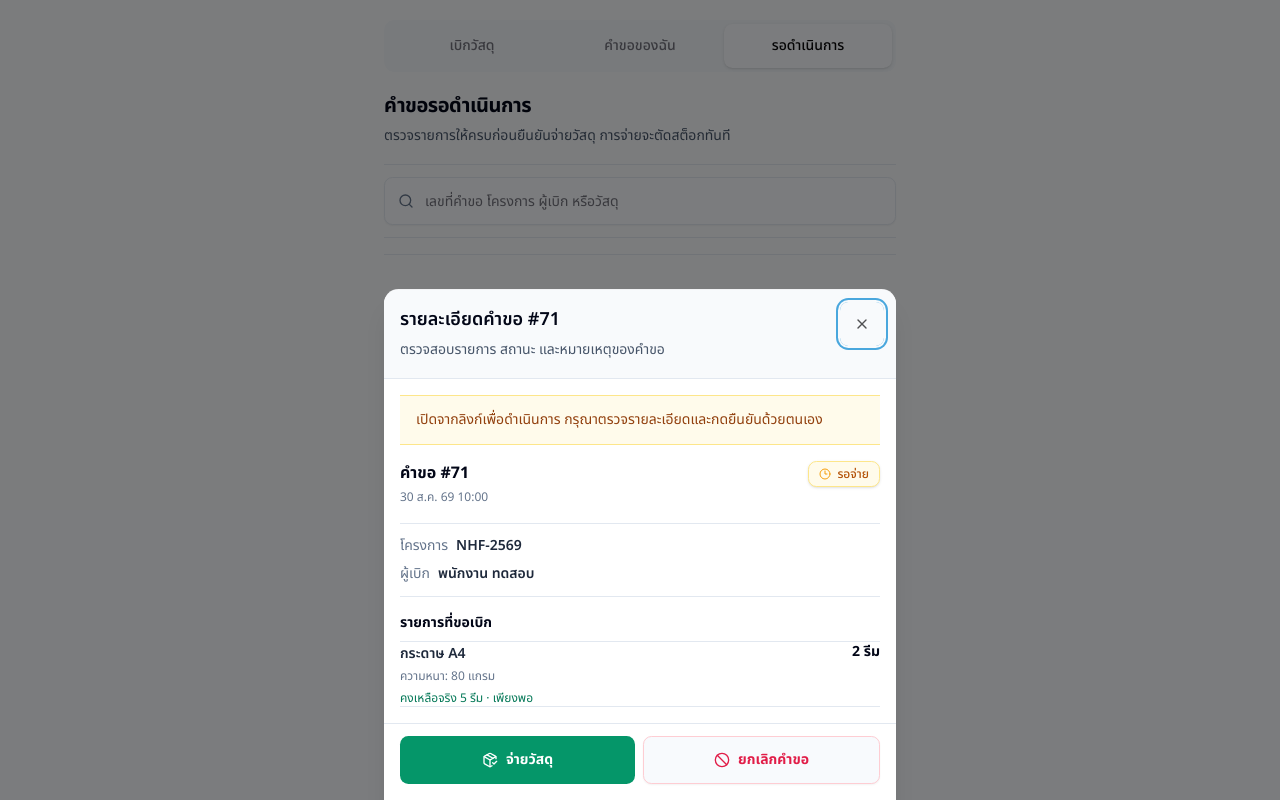
Test: LIFF Stock app orchestration › refreshes processor detail after an issue conflict without retrying
Check: the text "เปิดจากลิงก์เพื่อดำเนินการ กรุณาตรวจรายละเอียดและกดยืนยันด้วยตนเอง" is shown, box [400,395,880,445]
Click the button "จ่ายวัสดุ" at {"x": 518, "y": 760}, box [400,736,635,784]
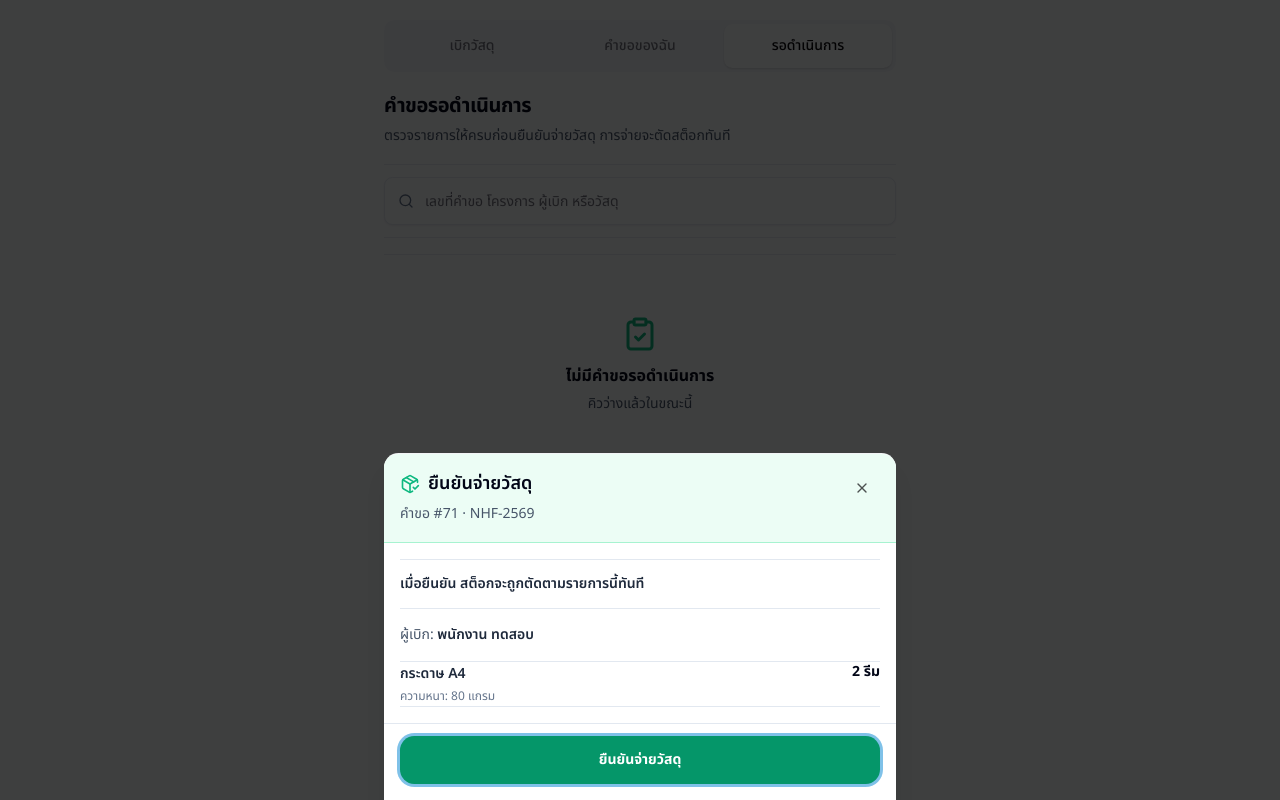
Click the button "ยืนยันจ่ายวัสดุ" at {"x": 640, "y": 760}, box [400,736,880,784]
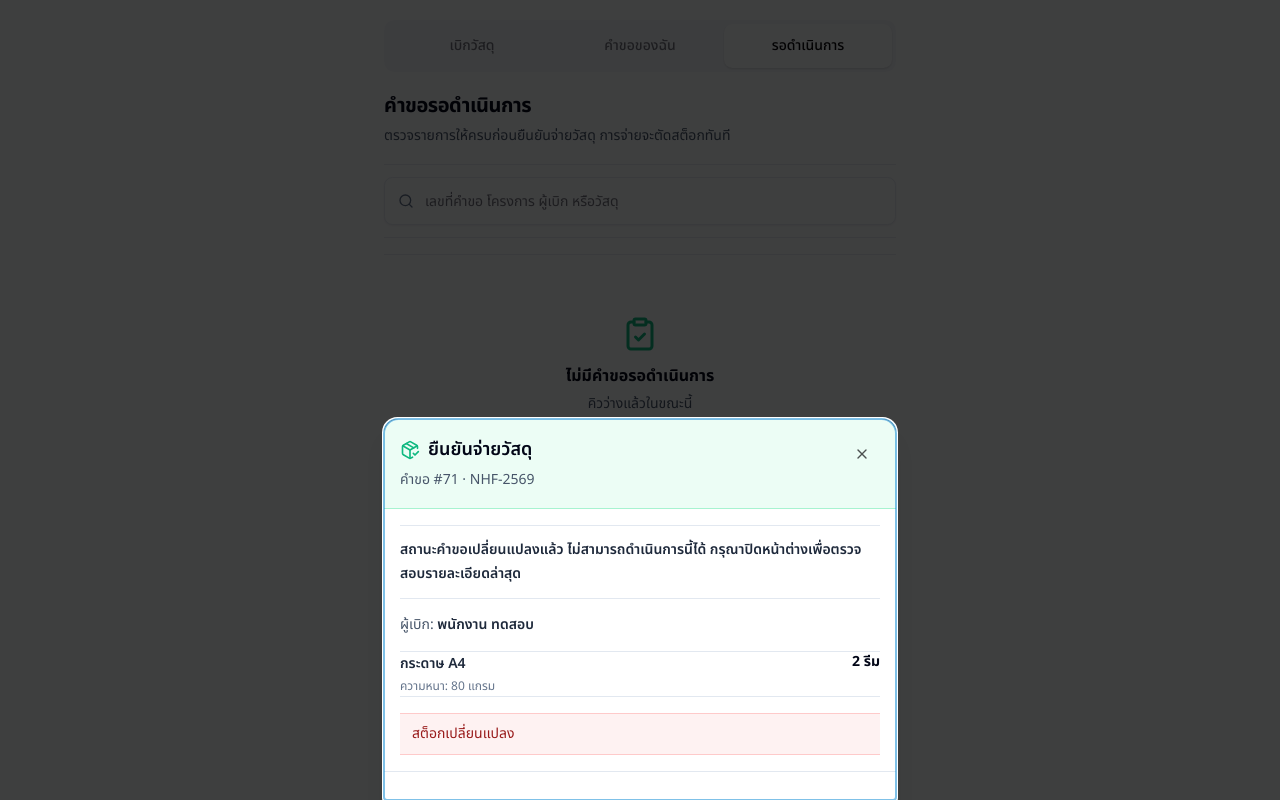
Click the button named "ปิดหน้าต่างยืนยัน" at {"x": 862, "y": 454}, box [840,432,884,476]
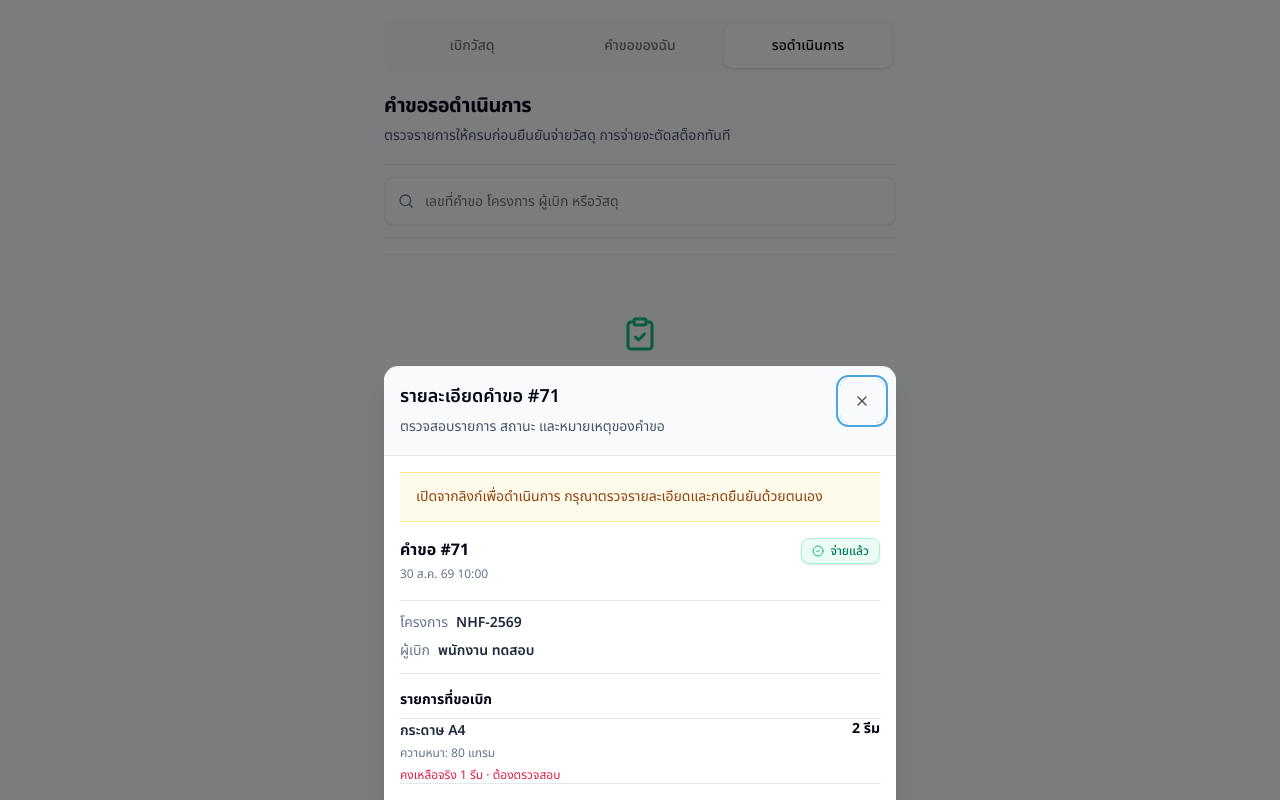
Check: the text "คงเหลือจริง 1 รีม · ต้องตรวจสอบ" is shown, box [400,766,560,784]
